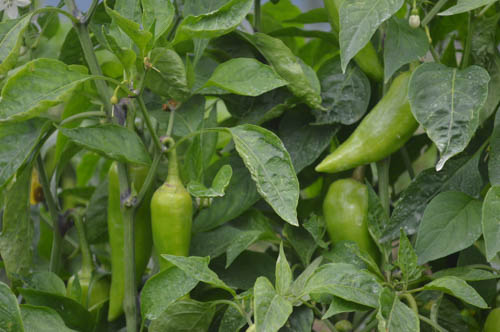ChiliPepper: (315, 73, 424, 172), (106, 161, 154, 321), (322, 180, 378, 279), (150, 185, 193, 306)
